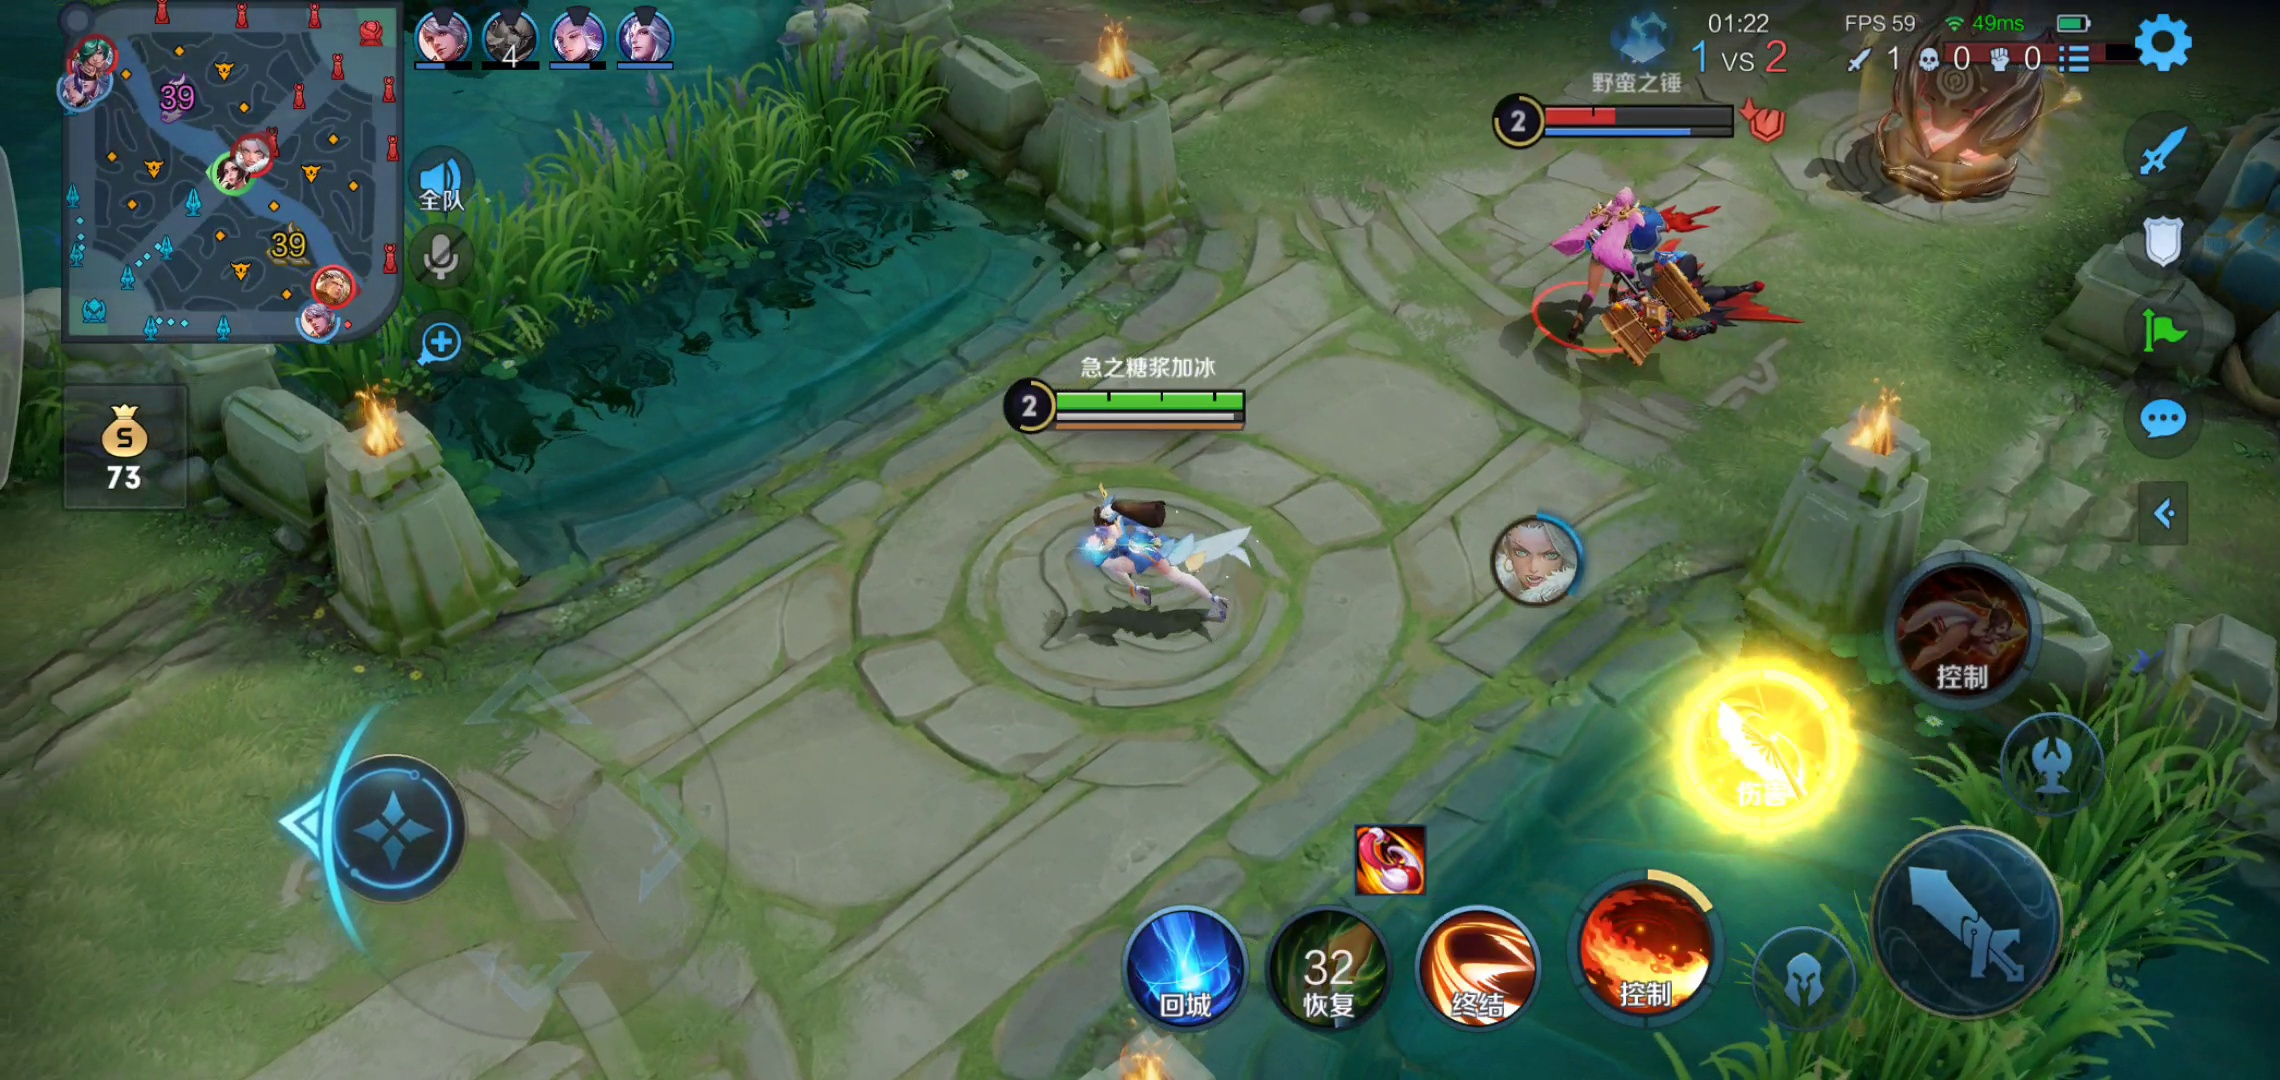grass: (265, 65, 944, 401), (1714, 688, 2263, 1080)
hero: (1536, 182, 1739, 371), (1059, 474, 1264, 629)
tower: (1860, 1, 2066, 219)
